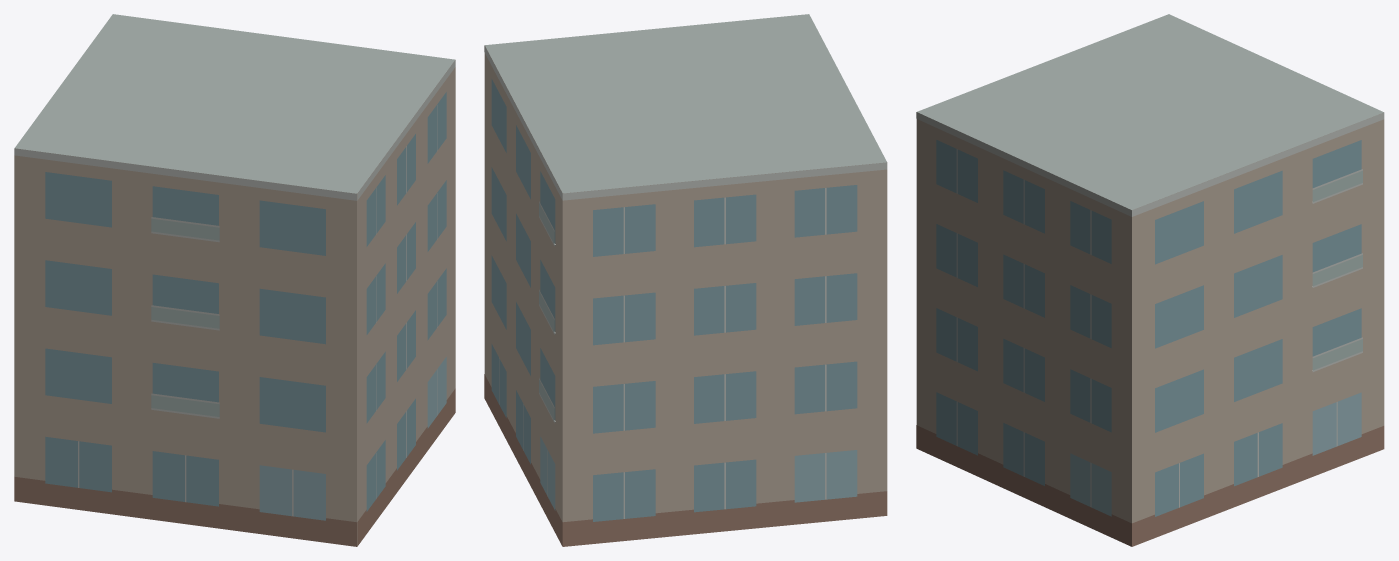
Rendered from survey-upis-32718069.glb.
The picture shows the model from 3 angles, left to right: view 1: azimuth 30°, elevation 25°; view 2: azimuth 150°, elevation 25°; view 3: azimuth 270°, elevation 25°; orthographic projection. The views are drawn at different scales.
Parts seen in each view (by area): view 1: survey-upis-32718069.tmp; view 2: survey-upis-32718069.tmp; view 3: survey-upis-32718069.tmp.
Boxes of the visible parts, <box> form: survey-upis-32718069.tmp: <box>14,14,455,546</box>; survey-upis-32718069.tmp: <box>484,14,887,546</box>; survey-upis-32718069.tmp: <box>916,14,1384,546</box>.
Bounding box in the file's own units: 15.1 × 12.07 × 15.21.
